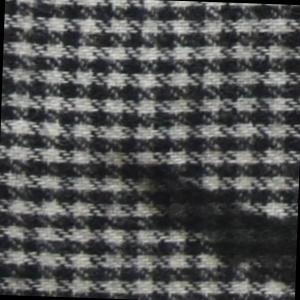Stain: (117, 160, 300, 289)
